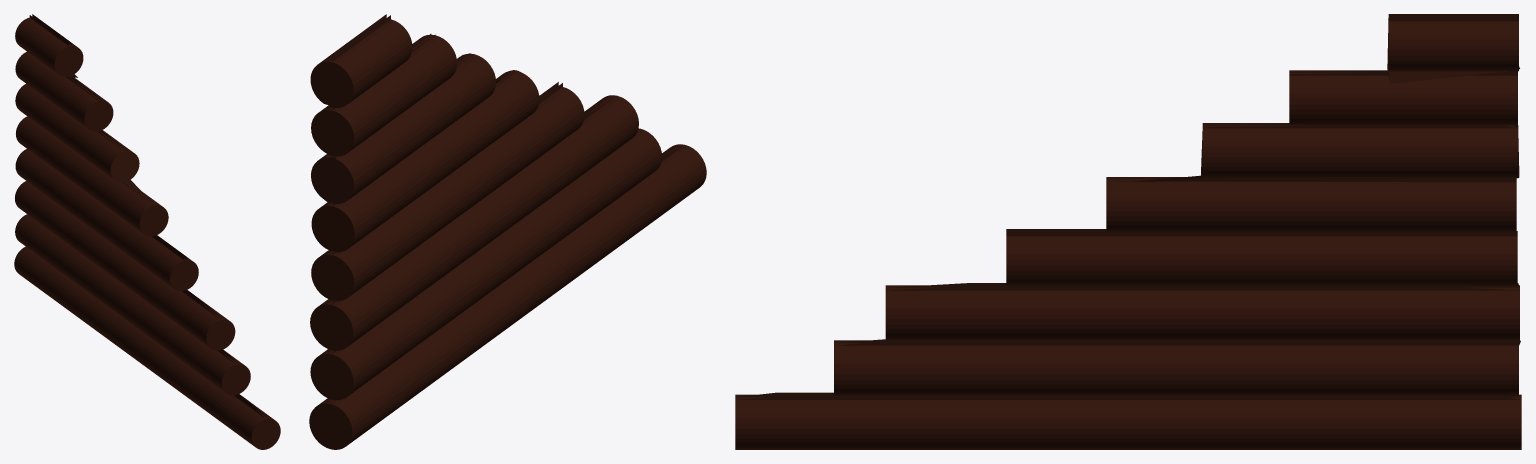
Rendered from LogCabinRoofTilt.fbx.
The picture shows the model from 3 angles, left to right: view 1: azimuth 30°, elevation 25°; view 2: azimuth 150°, elevation 25°; view 3: azimuth 270°, elevation 25°; orthographic projection. The views are drawn at different scales.
Visible parts, largest first — view 1: Wall.001; view 2: Wall.001; view 3: Wall.001.
Part boxes in pixels (box(x1,y1,x2,y2)): Wall.001: box(14, 14, 280, 449); Wall.001: box(309, 14, 706, 449); Wall.001: box(735, 14, 1521, 449).
Size of the model in its own units: 2 by 17.26 by 28.38.
